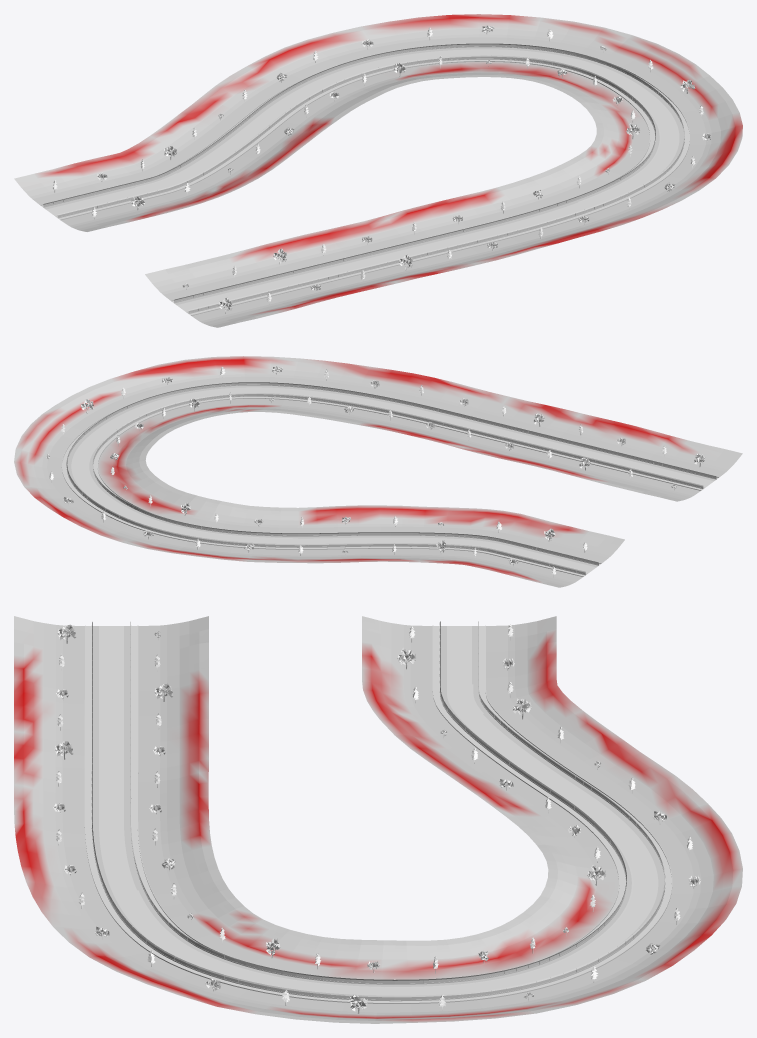
3 renders of one model, top to bottom at view 1: azimuth 30°, elevation 25°; view 2: azimuth 150°, elevation 25°; view 3: azimuth 270°, elevation 25°, orthographic. The views are drawn at different scales.
Parts seen in each view (by area): view 1: Grass, Road, Track, Wirefence, Trees; view 2: Grass, Road, Wirefence, Track, Trees; view 3: Grass, Road, Track, Wirefence, Trees.
Boxes of the visible parts, x1=… form: Grass: x1=14, y1=14, x2=742, y2=327; Road: x1=46, y1=49, x2=679, y2=311; Track: x1=40, y1=43, x2=689, y2=315; Wirefence: x1=43, y1=43, x2=684, y2=312; Trees: x1=52, y1=25, x2=710, y2=313; Grass: x1=14, y1=356, x2=742, y2=587; Road: x1=71, y1=387, x2=713, y2=573; Wirefence: x1=66, y1=382, x2=716, y2=574; Track: x1=61, y1=382, x2=718, y2=576; Trees: x1=46, y1=366, x2=704, y2=577; Grass: x1=14, y1=616, x2=742, y2=1023; Road: x1=99, y1=626, x2=657, y2=995; Track: x1=84, y1=621, x2=672, y2=1003; Wirefence: x1=92, y1=621, x2=664, y2=999; Trees: x1=53, y1=624, x2=700, y2=1013.
Size of the model in its own units: 69346 by 1702 by 52395.
